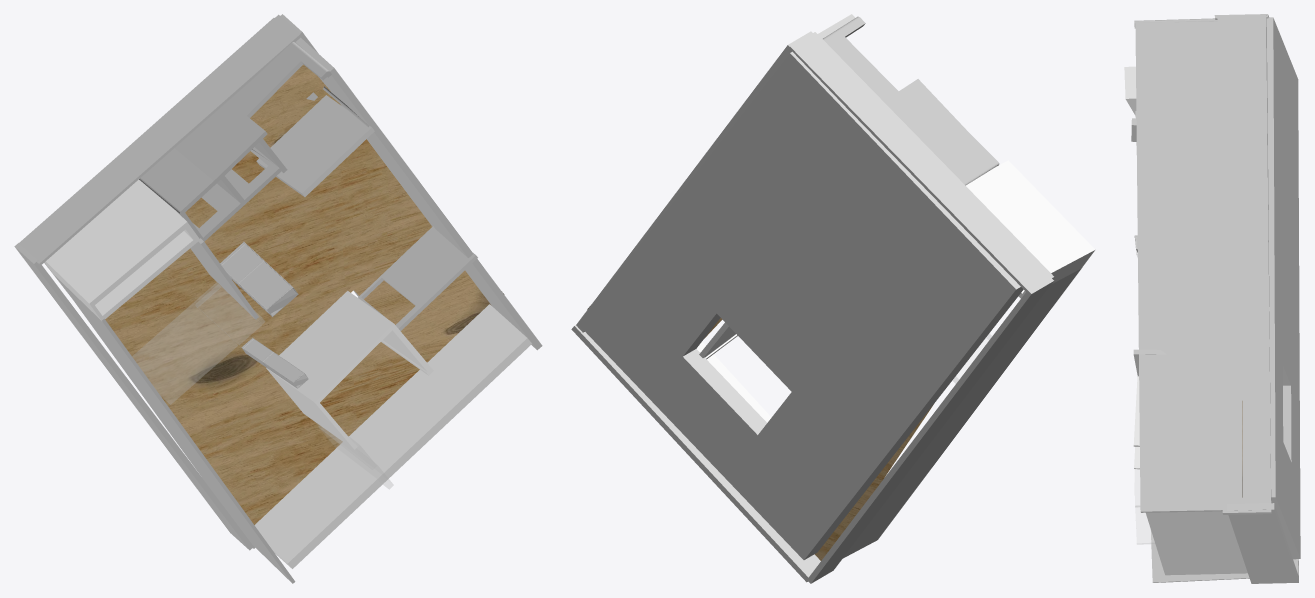
Rendered from 3rd_floor_base_wall.glb.
3 renders of one model, left to right at view 1: azimuth 30°, elevation 25°; view 2: azimuth 150°, elevation 25°; view 3: azimuth 270°, elevation 25°, orthographic. The views are drawn at different scales.
Parts seen in each view (by area): view 1: Geom3D.024, Cube.011, Cube, Geom3D.007, Cube.003, Cube.021; view 2: Cube.011, Cube, Geom3D.007, Geom3D.024; view 3: Cube.011, Cube, Cube.021, Cube.003, Geom3D.007.
Boxes of the visible parts, left/top/right/bottom form: Geom3D.024: left=105, top=64, right=504, bottom=524; Cube.011: left=14, top=14, right=542, bottom=583; Cube: left=44, top=179, right=531, bottom=568; Geom3D.007: left=139, top=42, right=368, bottom=241; Cube.003: left=266, top=291, right=433, bottom=449; Cube.021: left=132, top=282, right=393, bottom=489; Cube.011: left=571, top=14, right=1081, bottom=583; Cube: left=696, top=160, right=1095, bottom=422; Geom3D.007: left=823, top=16, right=999, bottom=185; Geom3D.024: left=587, top=306, right=933, bottom=560; Cube.011: left=1131, top=14, right=1300, bottom=583; Cube: left=1124, top=66, right=1247, bottom=575; Cube.021: left=1134, top=250, right=1154, bottom=544; Cube.003: left=1133, top=376, right=1139, bottom=469; Geom3D.007: left=1134, top=18, right=1217, bottom=28.
Bounding box in the file's own units: 0.7842 × 0.8313 × 0.2251.
Materials: 5 (1 with a texture image).
